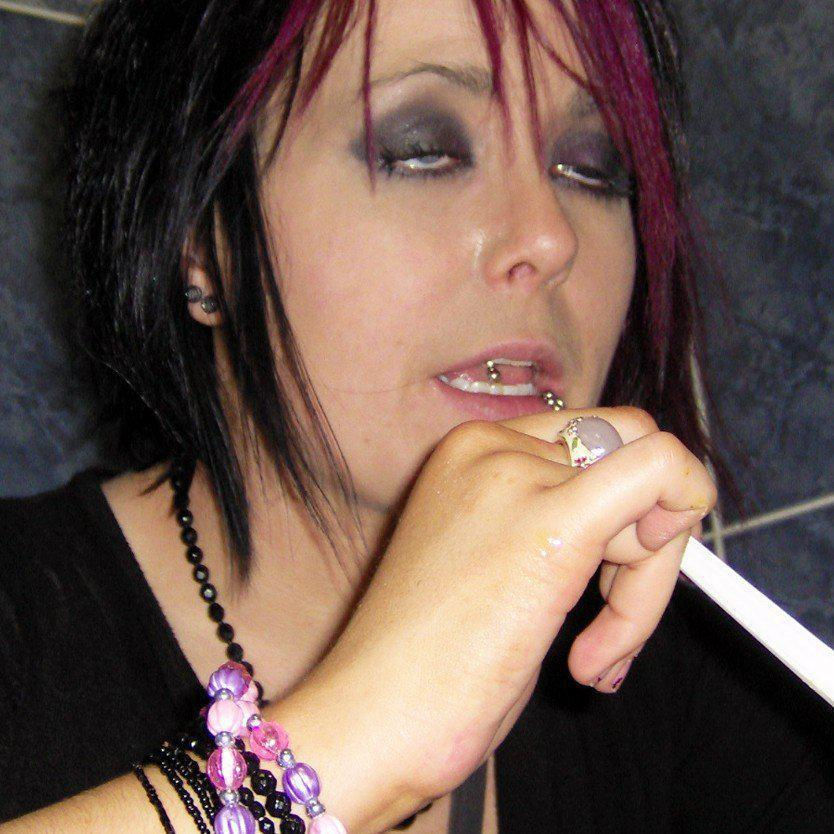Drunk: (312, 0, 622, 467)
